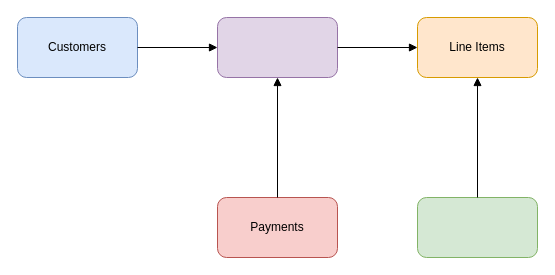
This 555x275 diagram has some shape labels left out. Each missing label, with the box of its shape:
Invoices: (216, 16, 338, 78)
Products: (416, 196, 538, 258)
